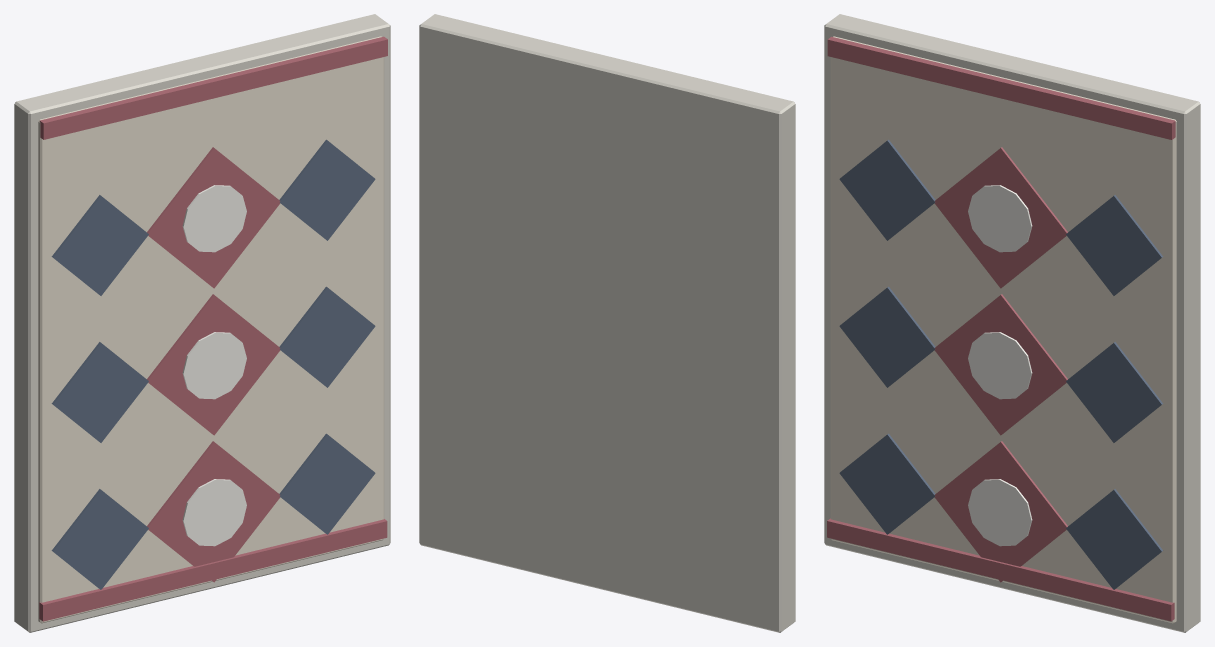
The model's file is roman-bathhouse-and-palaestra-opus-sectile-panel-26703731__37851.glb.
3 renders of one model, left to right at view 1: azimuth 30°, elevation 25°; view 2: azimuth 150°, elevation 25°; view 3: azimuth 330°, elevation 25°, orthographic.
Visible parts, largest first — view 1: opus-sectile-panel; view 2: opus-sectile-panel; view 3: opus-sectile-panel.
Boxes of the visible parts, <box> form: opus-sectile-panel: <box>14,14,390,632</box>; opus-sectile-panel: <box>419,14,795,632</box>; opus-sectile-panel: <box>824,14,1200,632</box>.
Size of the model in its own units: 1.6 by 2.2 by 0.16.
